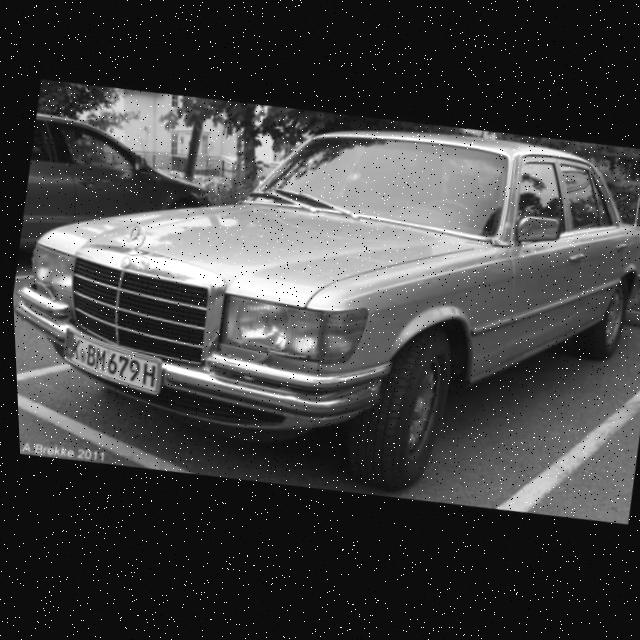license-plates: (63, 330, 161, 395)
